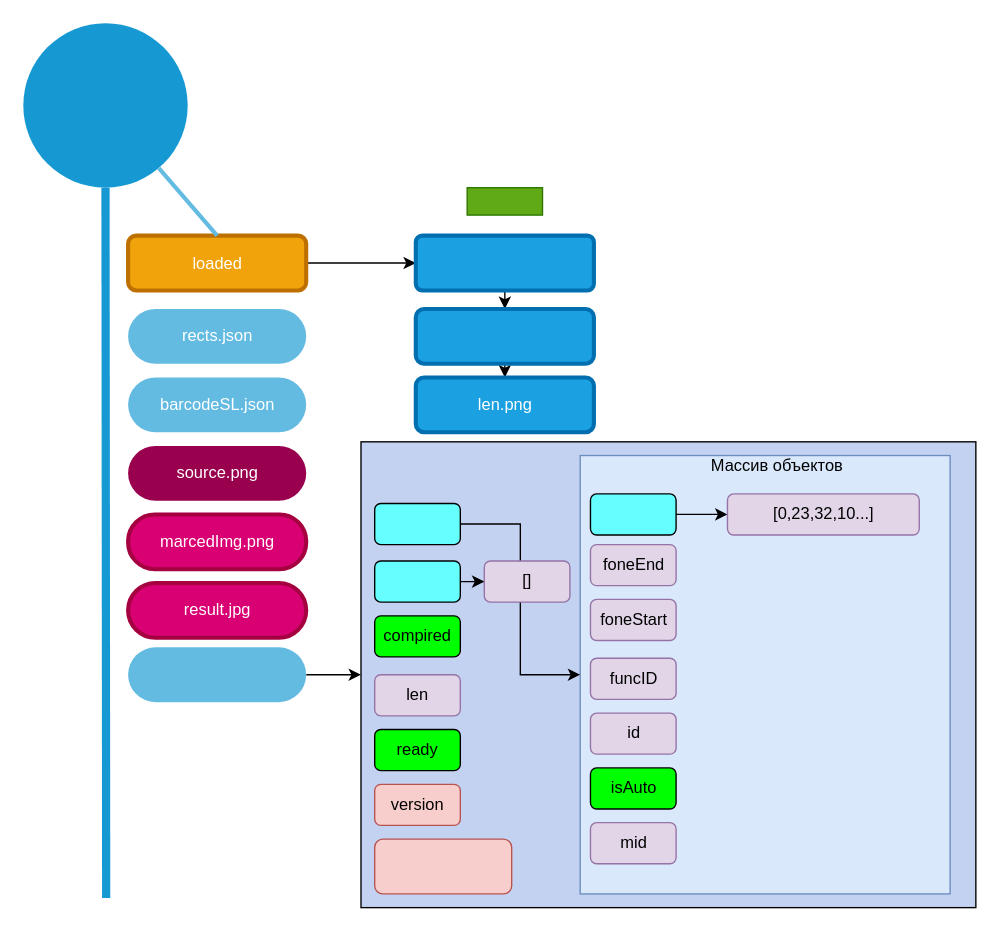
The diagram is 1000 pixels wide and 932 high, and some of its shapes have lost their labels. Here are the shapes that lost their labels. From the top down, the centre of each, then its label:
At point 105,105: "BC type".
At point 504,200: "Цветное".
At point 504,262: "-1.png".
At point 504,335: "-2.png".
At point 416,523: "selected".
At point 632,514: "barcode".
At point 416,581: "avgs".
At point 216,674: "{name}.bc".
At point 442,866: "widght_structure".
